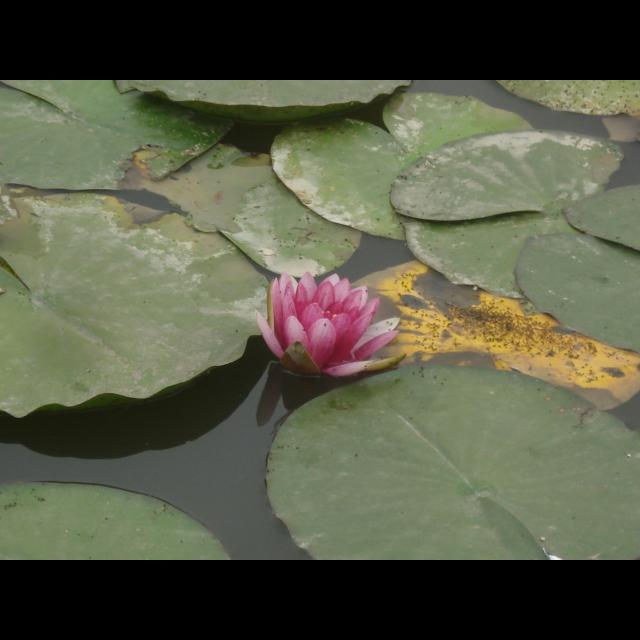Flower: (252, 270, 410, 386)
